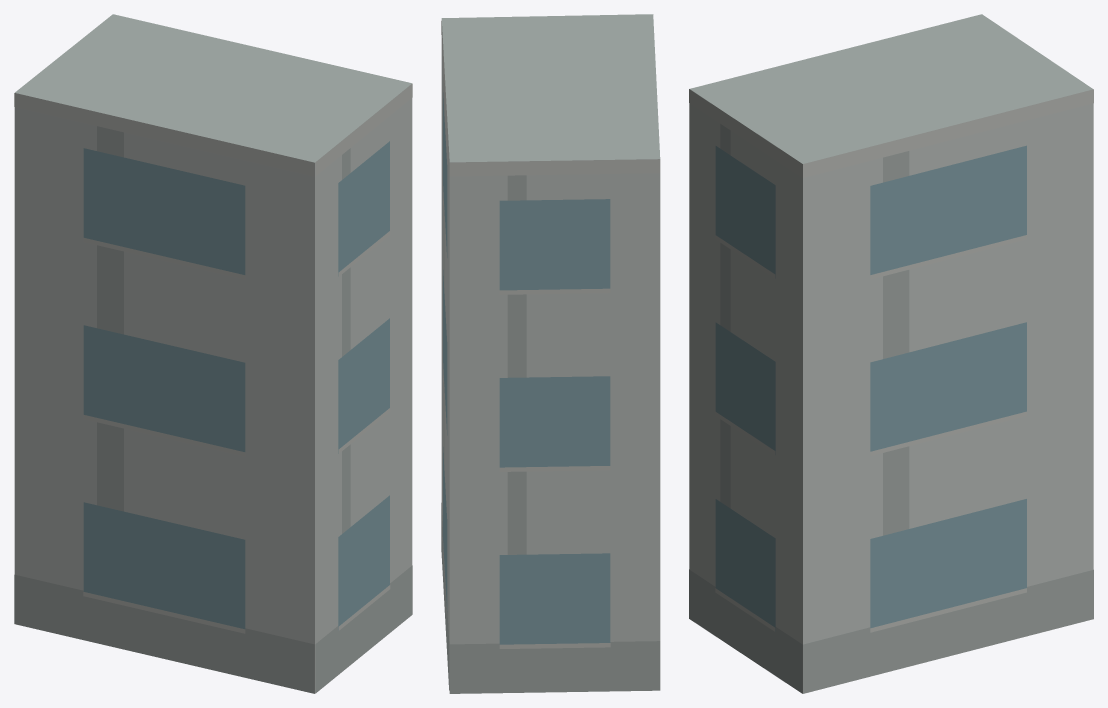
Rendered from survey-upis-33003388.glb.
The picture shows the model from 3 angles, left to right: view 1: azimuth 30°, elevation 25°; view 2: azimuth 150°, elevation 25°; view 3: azimuth 270°, elevation 25°; orthographic projection.
Visible parts, largest first — view 1: survey-upis-33003388.tmp; view 2: survey-upis-33003388.tmp; view 3: survey-upis-33003388.tmp.
Boxes of the visible parts, box(x1,y1,x2,y2) form: survey-upis-33003388.tmp: box(14, 14, 412, 693); survey-upis-33003388.tmp: box(441, 14, 660, 693); survey-upis-33003388.tmp: box(689, 14, 1093, 693).
Size of the model in its own units: 5.57 by 9.15 by 6.34.
